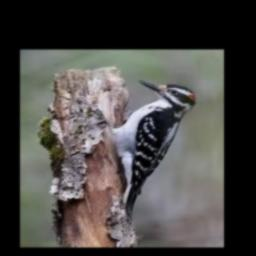Woodpecker: (110, 80, 195, 219)
